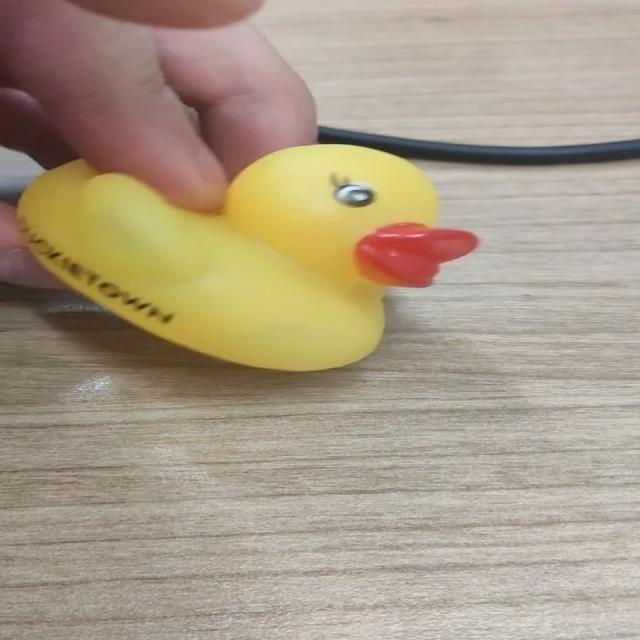rubber-duck: (17, 144, 475, 369)
